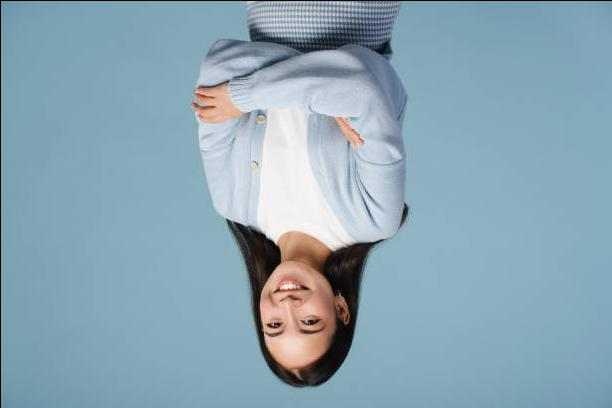Non_Gorille: (141, 0, 430, 401)
